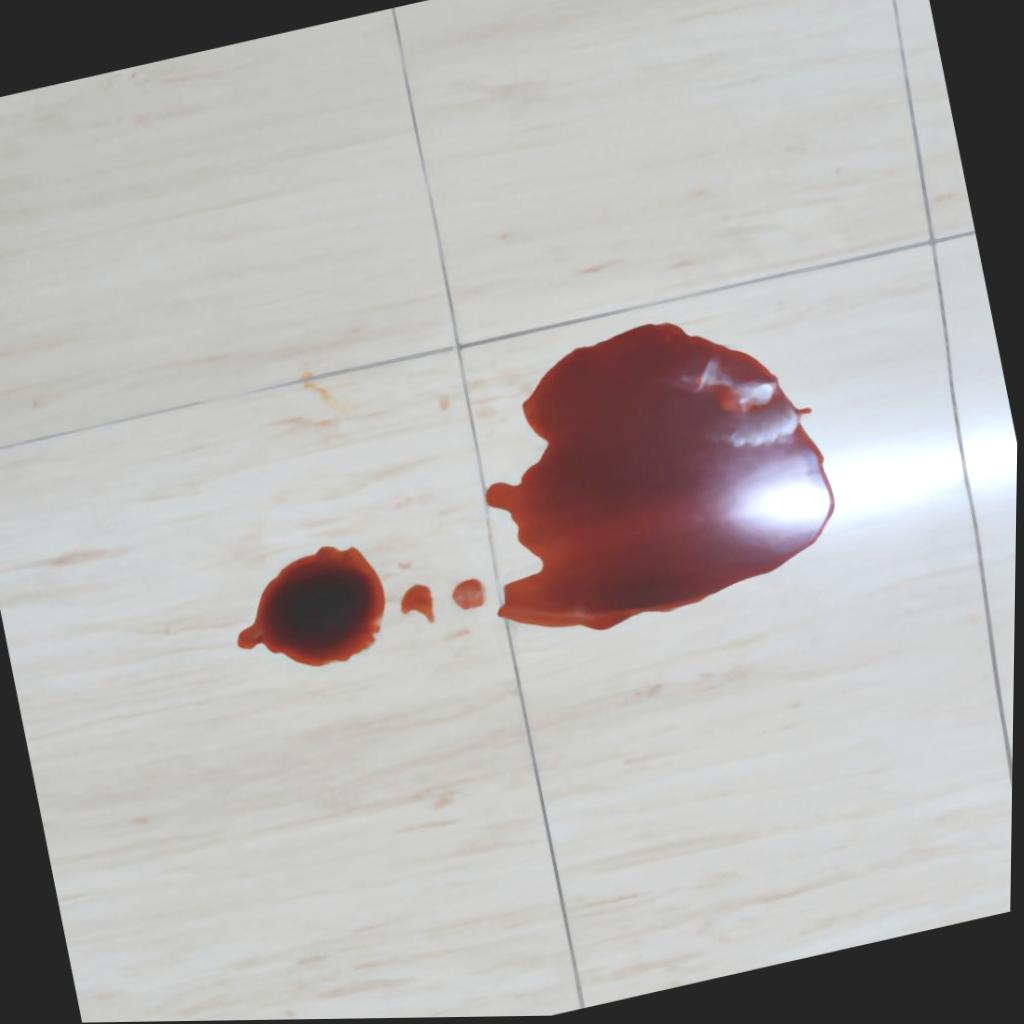Fire: (488, 324, 838, 633), (239, 547, 388, 669), (403, 586, 439, 625), (454, 580, 489, 613)
